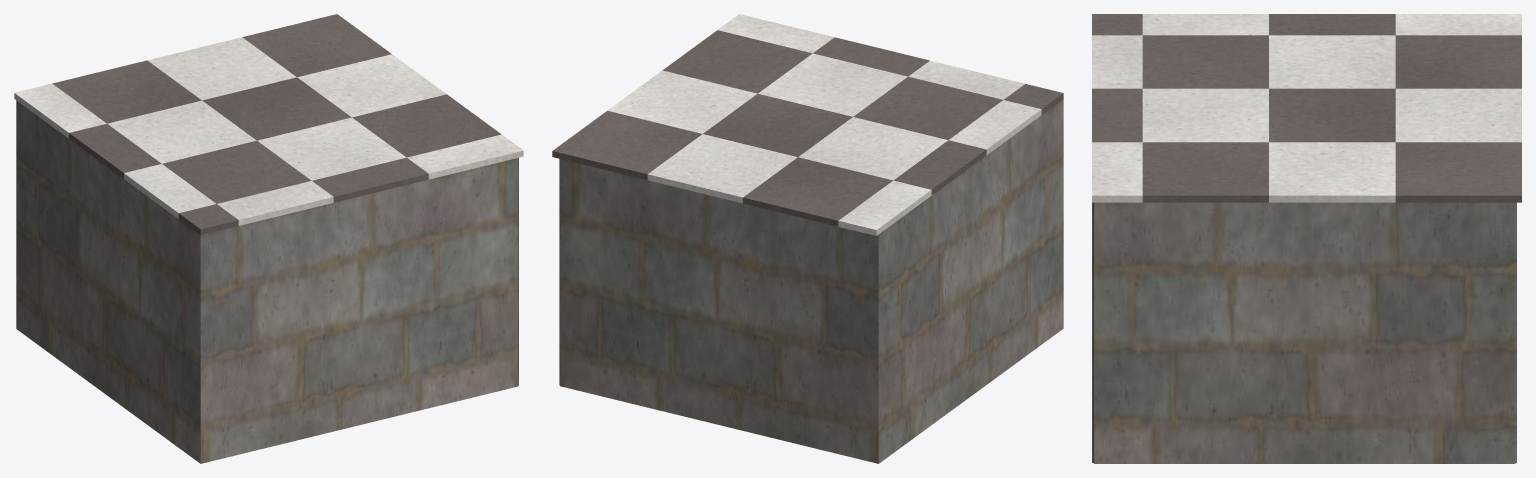
Rendered from floor_marble_e30_0_0_30.glb.
3 views of the same model, side by side, from view 1: azimuth 30°, elevation 25°; view 2: azimuth 150°, elevation 25°; view 3: azimuth 270°, elevation 25° (orthographic). The views are drawn at different scales.
Visible parts, largest first — view 1: floor_marble_e30_0_0_30_granite, floor_marble_e30_0_0_30_marble2, floor_marble_e30_0_0_30_marble; view 2: floor_marble_e30_0_0_30_granite, floor_marble_e30_0_0_30_marble2, floor_marble_e30_0_0_30_marble; view 3: floor_marble_e30_0_0_30_granite, floor_marble_e30_0_0_30_marble2, floor_marble_e30_0_0_30_marble.
Boxes of the visible parts, <box> form: floor_marble_e30_0_0_30_granite: <box>16,100,518,463</box>; floor_marble_e30_0_0_30_marble2: <box>52,14,501,234</box>; floor_marble_e30_0_0_30_marble: <box>14,37,523,225</box>; floor_marble_e30_0_0_30_granite: <box>559,99,1063,463</box>; floor_marble_e30_0_0_30_marble2: <box>552,30,1063,226</box>; floor_marble_e30_0_0_30_marble: <box>608,14,1041,235</box>; floor_marble_e30_0_0_30_granite: <box>1092,202,1516,463</box>; floor_marble_e30_0_0_30_marble2: <box>1092,14,1521,202</box>; floor_marble_e30_0_0_30_marble: <box>1092,14,1521,202</box>.
Size of the model in its own units: 1.7 by 1.18 by 1.7.
Materials: 3 (3 with a texture image).
